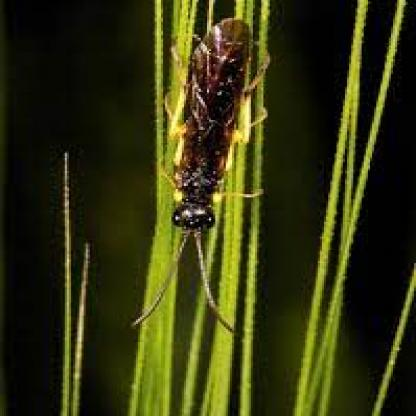sawfly: (137, 14, 276, 341)
